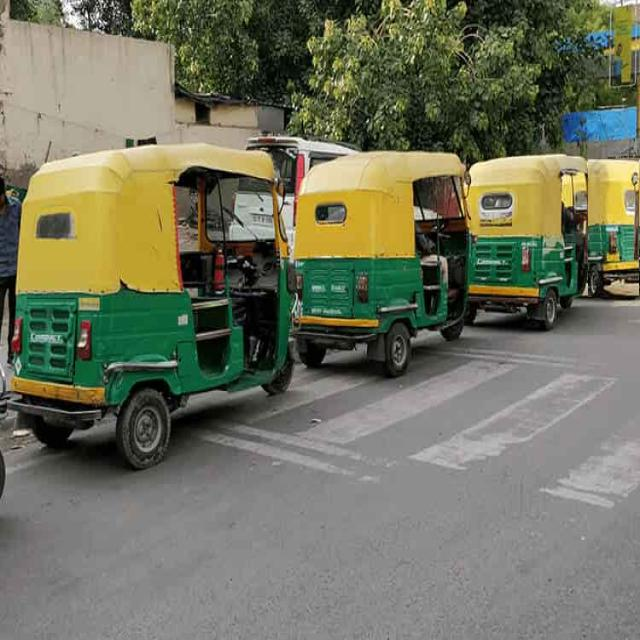autorickshaw: (10, 145, 292, 468), (294, 152, 469, 376), (465, 153, 592, 328), (588, 160, 640, 297)
